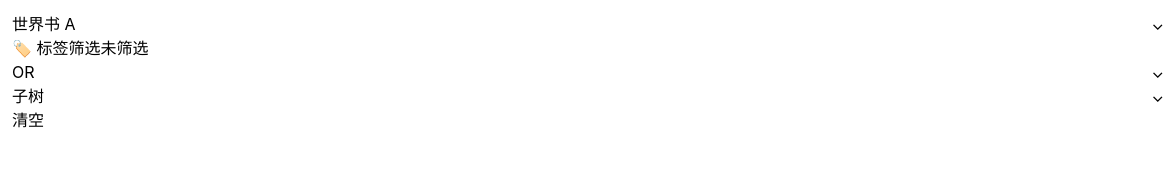
Test: WorldbookPicker › forwards worldbook search and empty-result copy to BaseSelect
The width and height of the screenshot is (1176, 172).
Click the dropdown labelled "世界书 A ⌄" at {"x": 44, "y": 24}, box 12,12 -> 1164,36
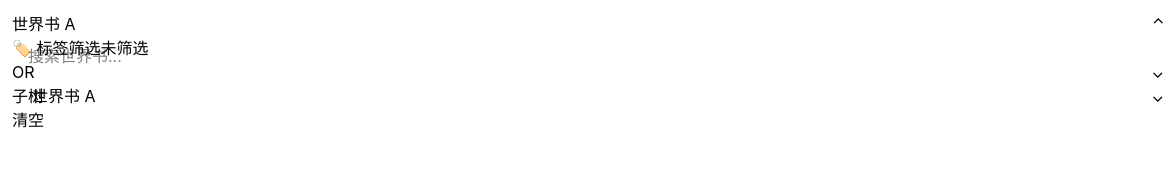
Type "不存在" into the dropdown with placeholder "搜索世界书..." at {"x": 588, "y": 56}, box 28,44 -> 1148,68
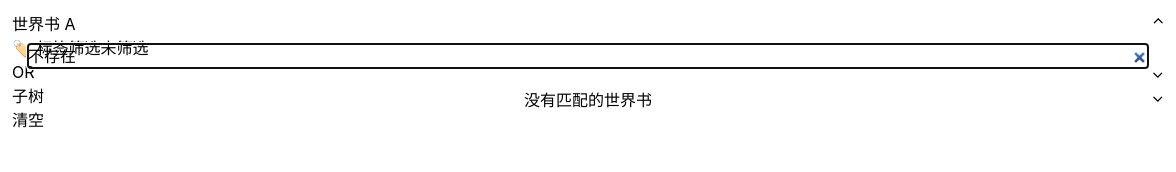
Expected: the text with class "wb-control-select-empty" reads "没有匹配的世界书", 524,90 -> 652,110
